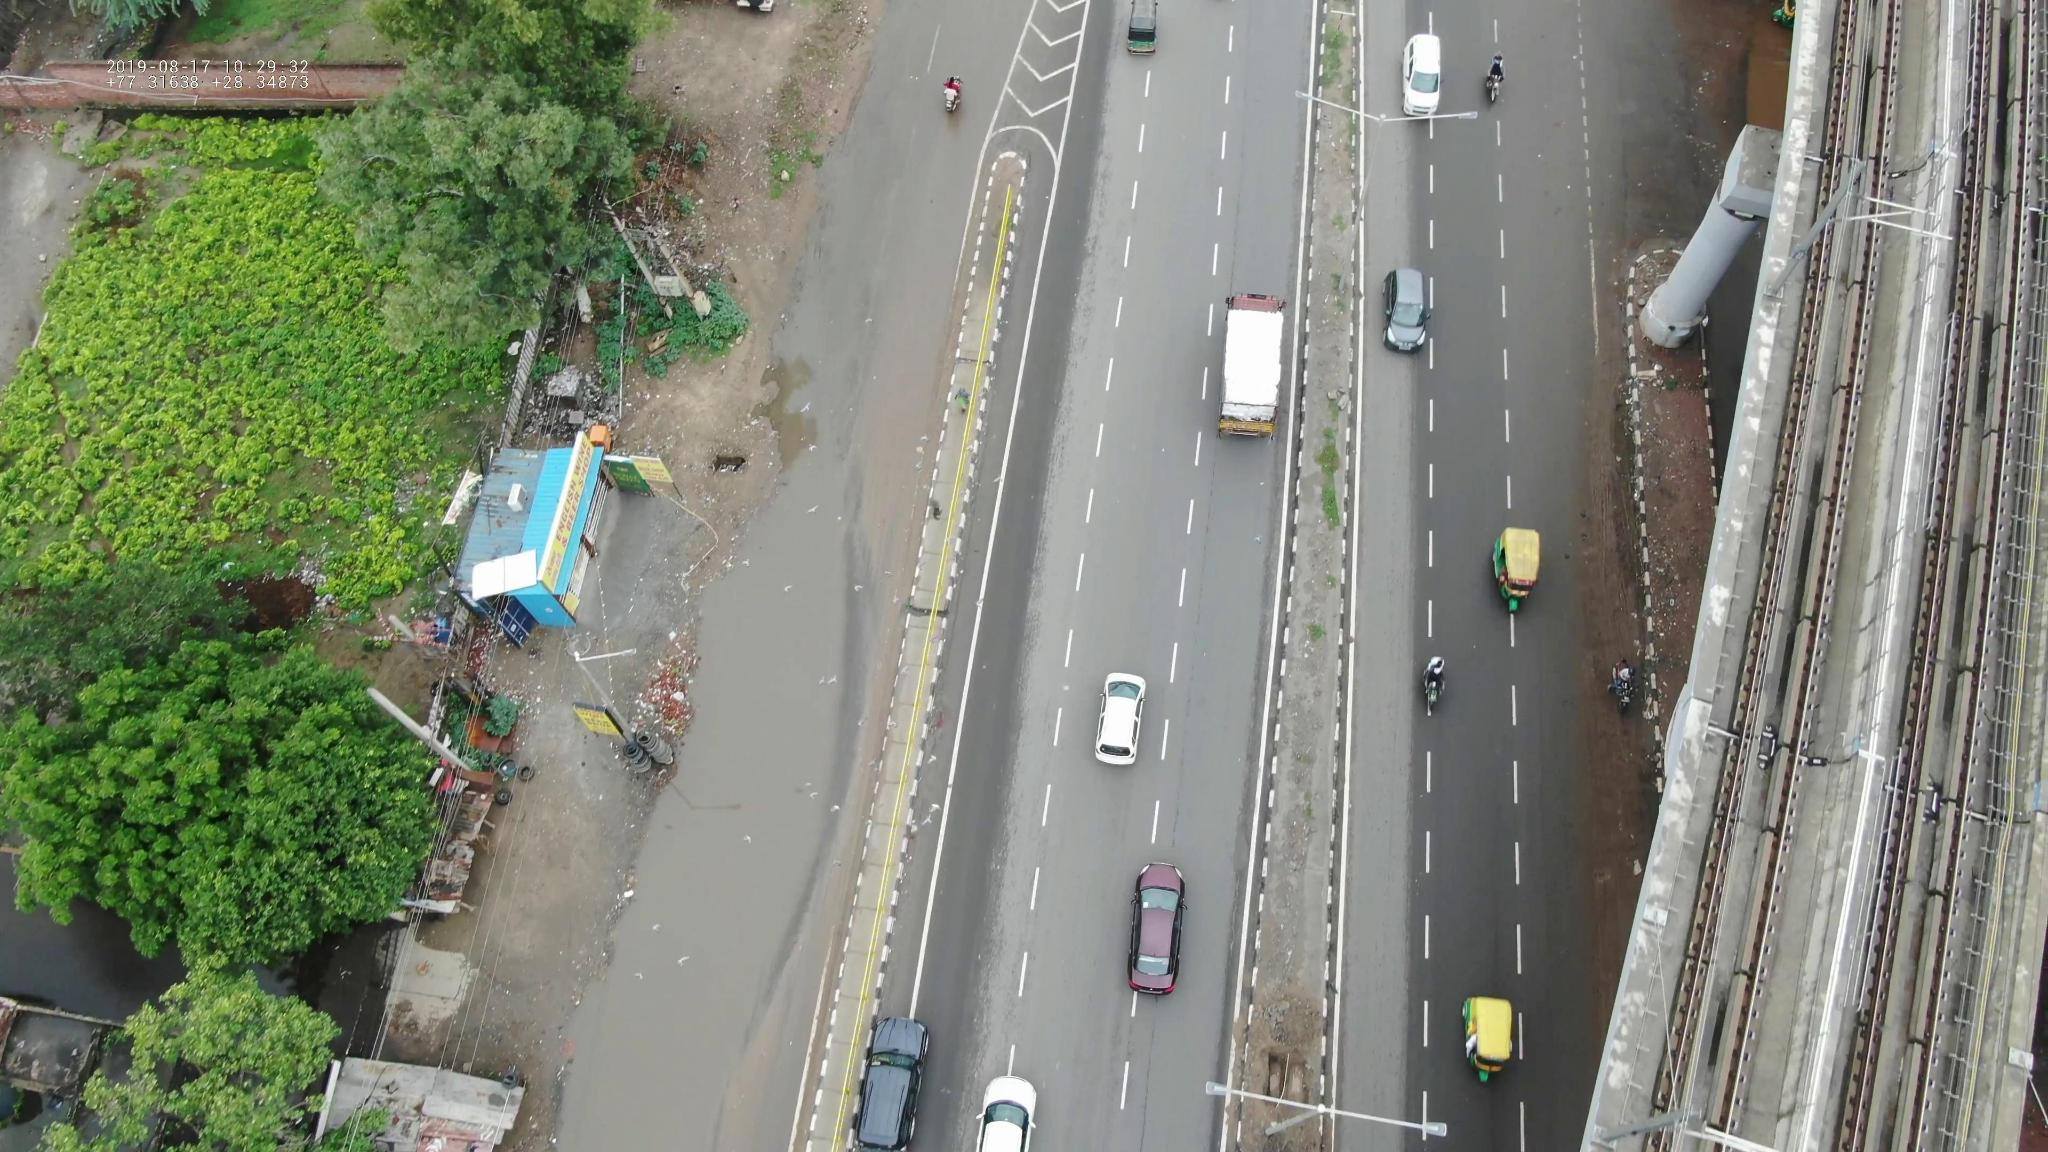Muddy_road: (1580, 464, 1641, 760)
Waterlogging: (558, 492, 852, 1137)
